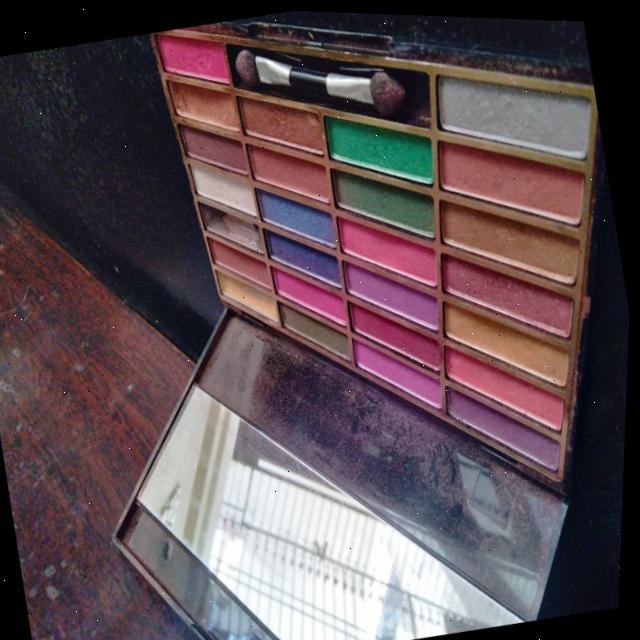brush: (224, 7, 451, 154)
eye shade: (421, 61, 598, 503), (144, 4, 356, 337), (303, 78, 459, 418)
